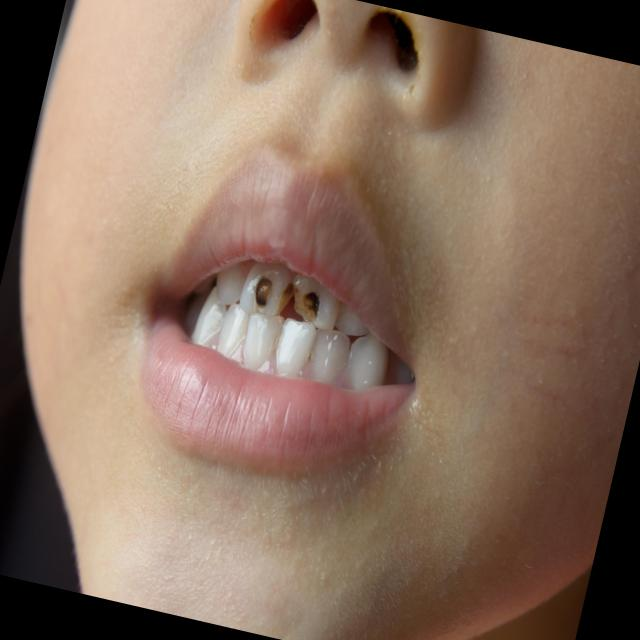Caries: (255, 276, 272, 305), (306, 292, 319, 317)
Cavity: (247, 270, 293, 316), (293, 283, 319, 326)
Tooth: (238, 262, 293, 317), (292, 275, 340, 330), (347, 332, 388, 389), (276, 317, 316, 375), (244, 312, 284, 369), (311, 328, 350, 382), (191, 286, 226, 344), (217, 303, 251, 356), (334, 303, 370, 336), (216, 264, 244, 304)
